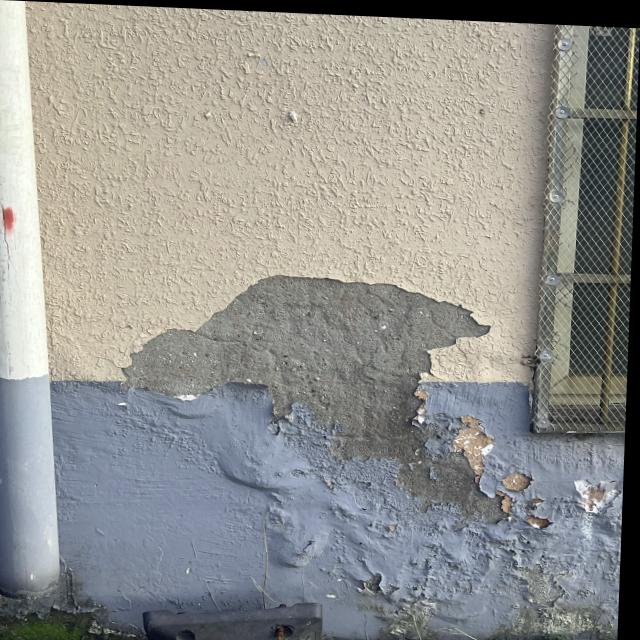spalling: (110, 239, 545, 594), (545, 466, 623, 520)
